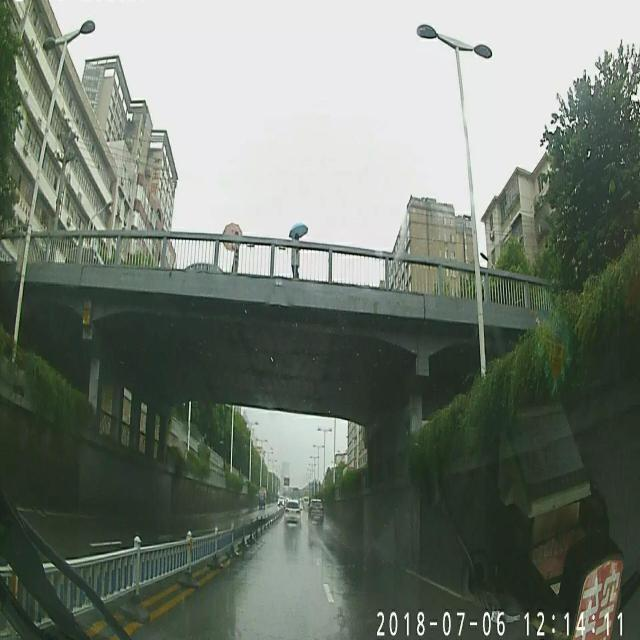car: (284, 497, 302, 528), (308, 498, 324, 522), (258, 486, 266, 508)
